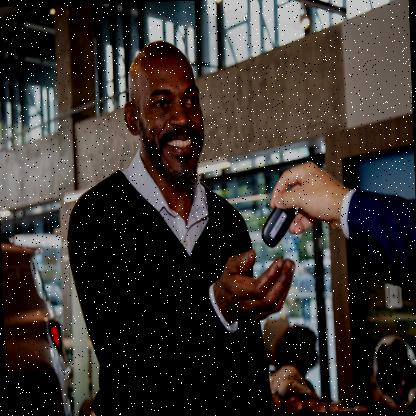sem_capacete: (120, 37, 210, 197)
sem_colete_refletivo: (59, 161, 276, 415)
